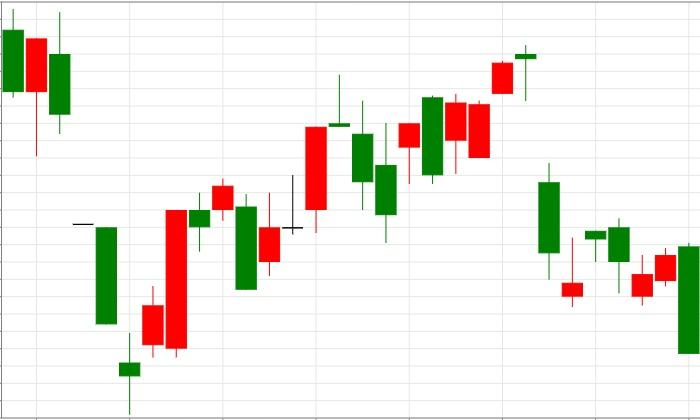evening_star_fall: (235, 73, 373, 290)
